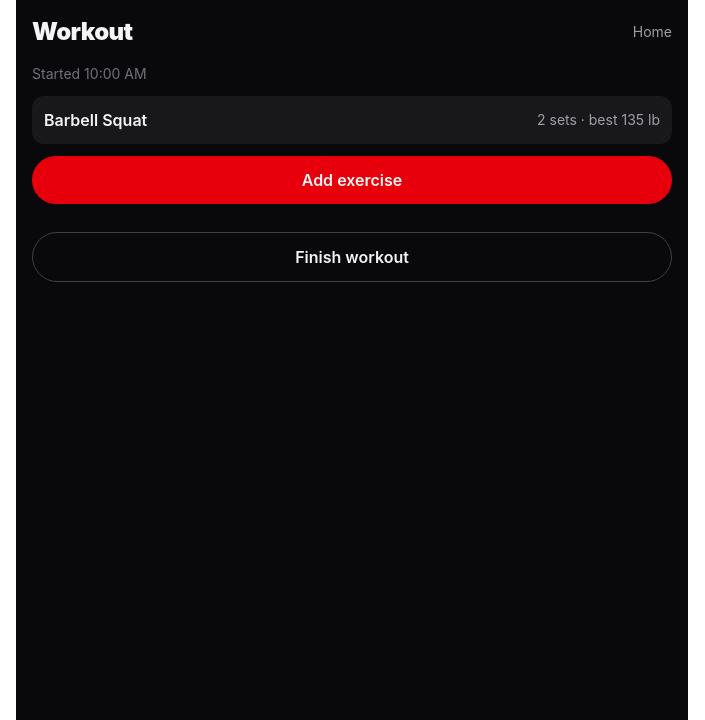
Test: WorkoutPage › removes a set after a confirming second tap
Click the button "Barbell Squat 2 sets · best 135 lb": (96, 120) x1=32 y1=96 x2=672 y2=144
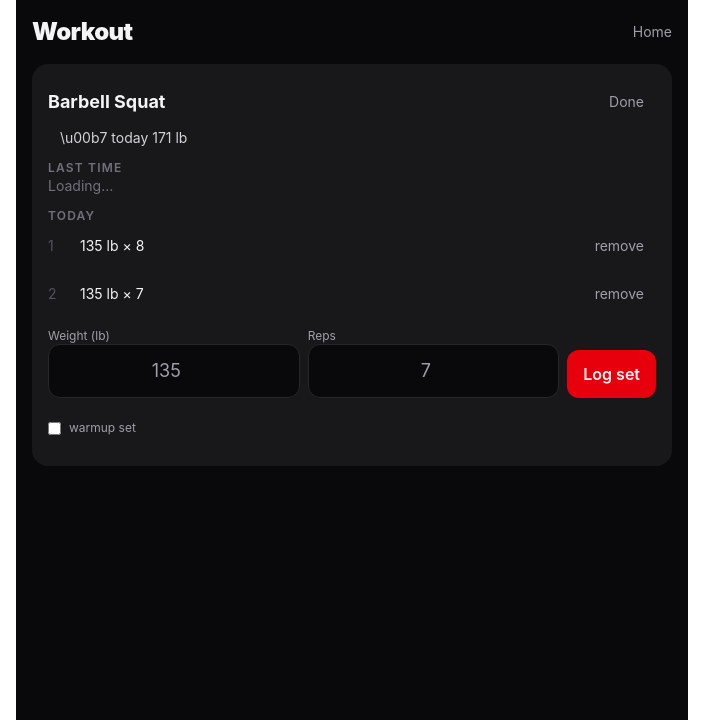
Result: the number of list items is 2 at x1=48 y1=224 x2=656 y2=268; x1=48 y1=272 x2=656 y2=316
Click the button named "Remove set 2": (619, 294) x1=583 y1=272 x2=656 y2=316
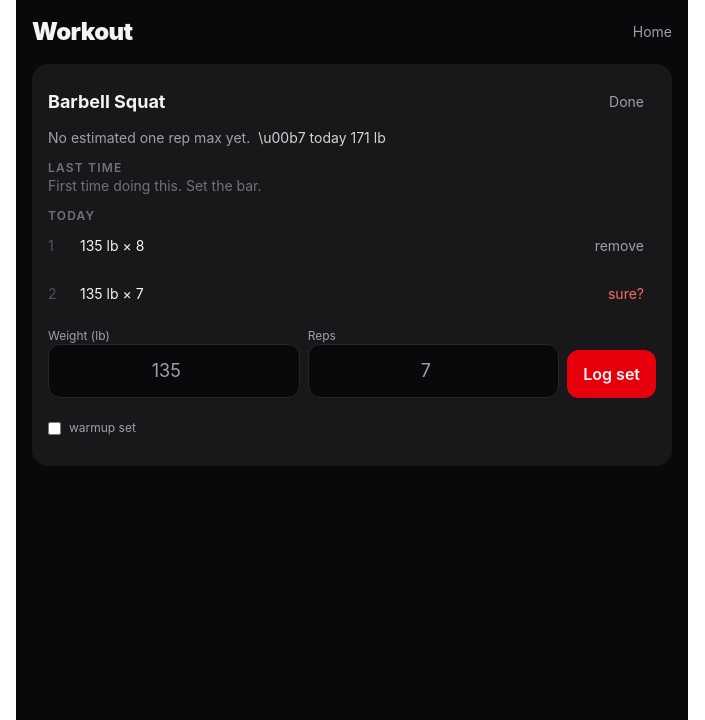
Click the button named "Confirm removing set 2": (626, 294) x1=596 y1=272 x2=656 y2=316
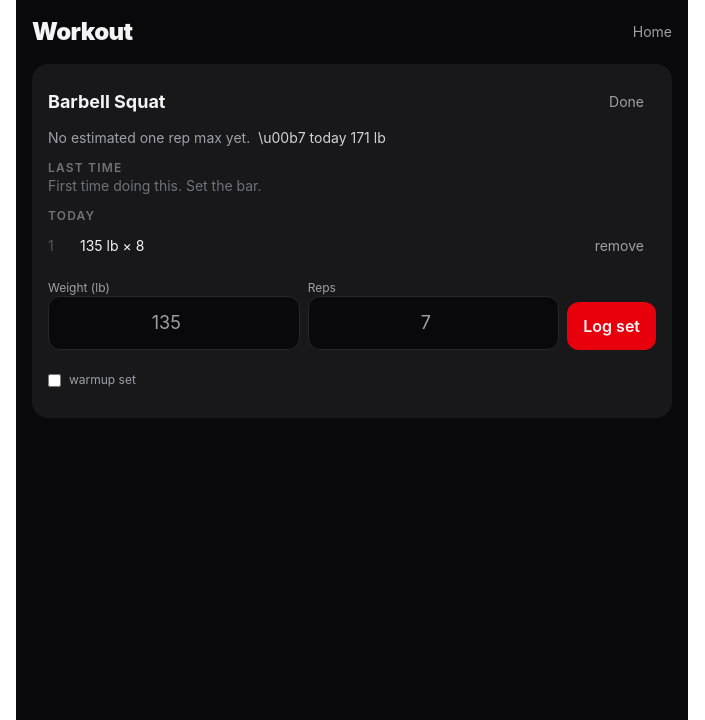
Result: the number of list items is 1 at x1=48 y1=224 x2=656 y2=268
